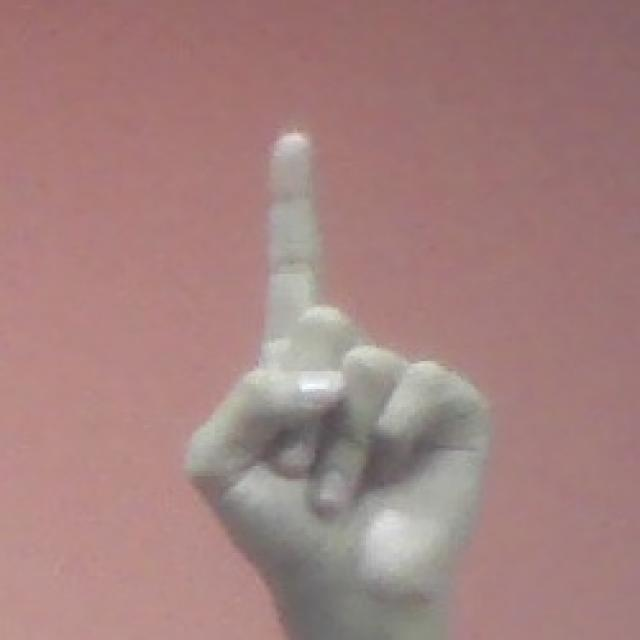Numeric-1: (185, 130, 492, 620)
